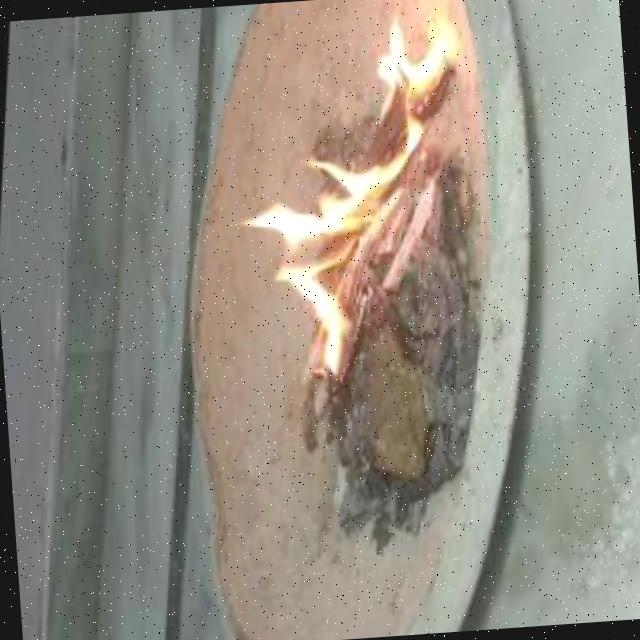fire: (247, 28, 469, 367)
